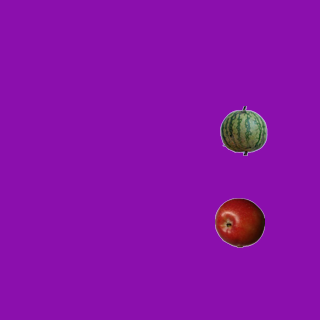Apple Braeburn: (214, 197, 264, 247)
Watermelon: (218, 105, 268, 155)
